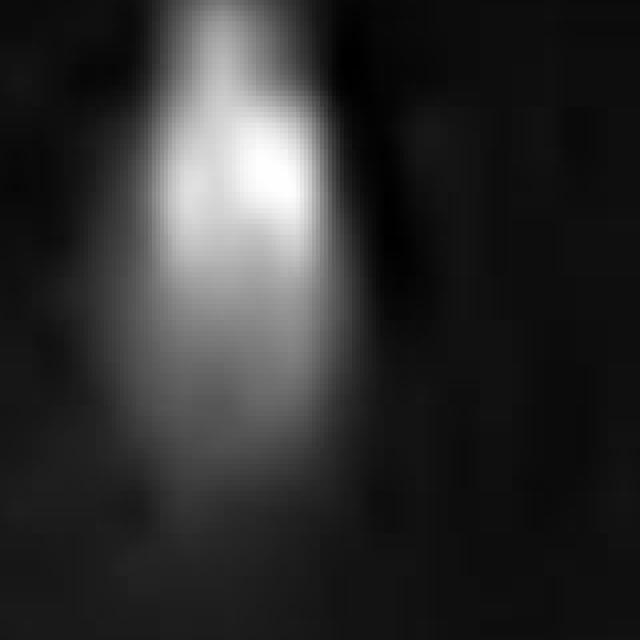person: (121, 1, 345, 529)
